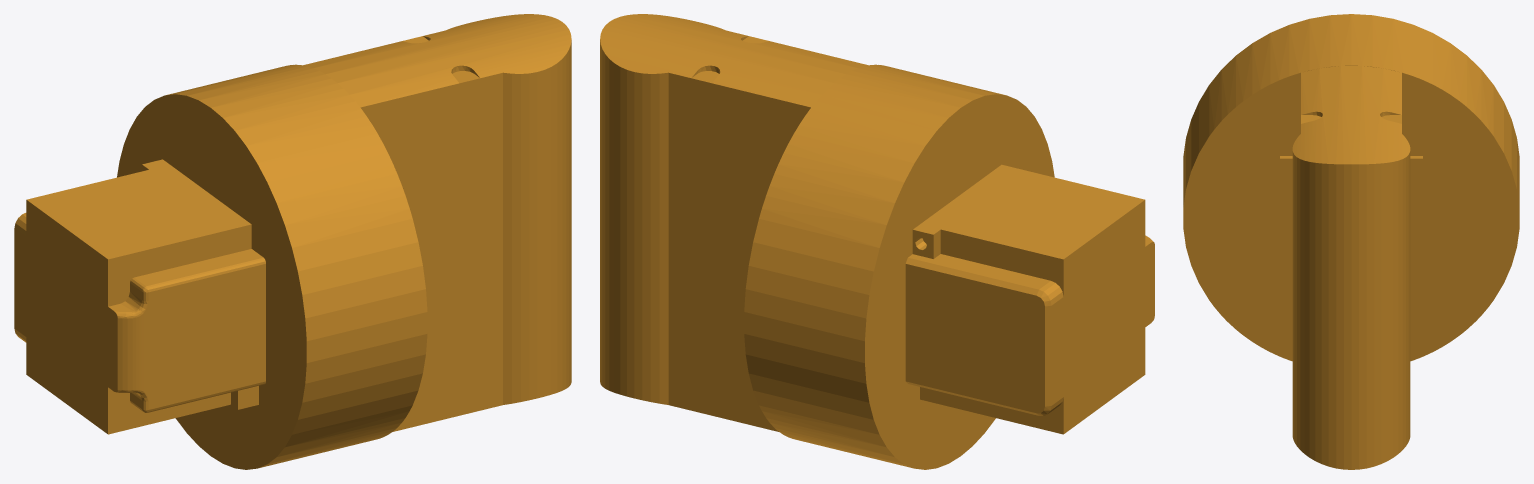
Rendered from yaw_motor_link3.dae.
The picture shows the model from 3 angles, left to right: view 1: azimuth 30°, elevation 25°; view 2: azimuth 150°, elevation 25°; view 3: azimuth 270°, elevation 25°; orthographic projection. The views are drawn at different scales.
Visible parts, largest first — view 1: _0link_V22_TAIL; view 2: _0link_V22_TAIL; view 3: _0link_V22_TAIL.
Part boxes in pixels (<box>): _0link_V22_TAIL: <box>14,14,571,469</box>; _0link_V22_TAIL: <box>600,14,1154,469</box>; _0link_V22_TAIL: <box>1183,14,1519,469</box>.
Bounding box in the file's own units: 0.119 × 0.0798 × 0.08.
